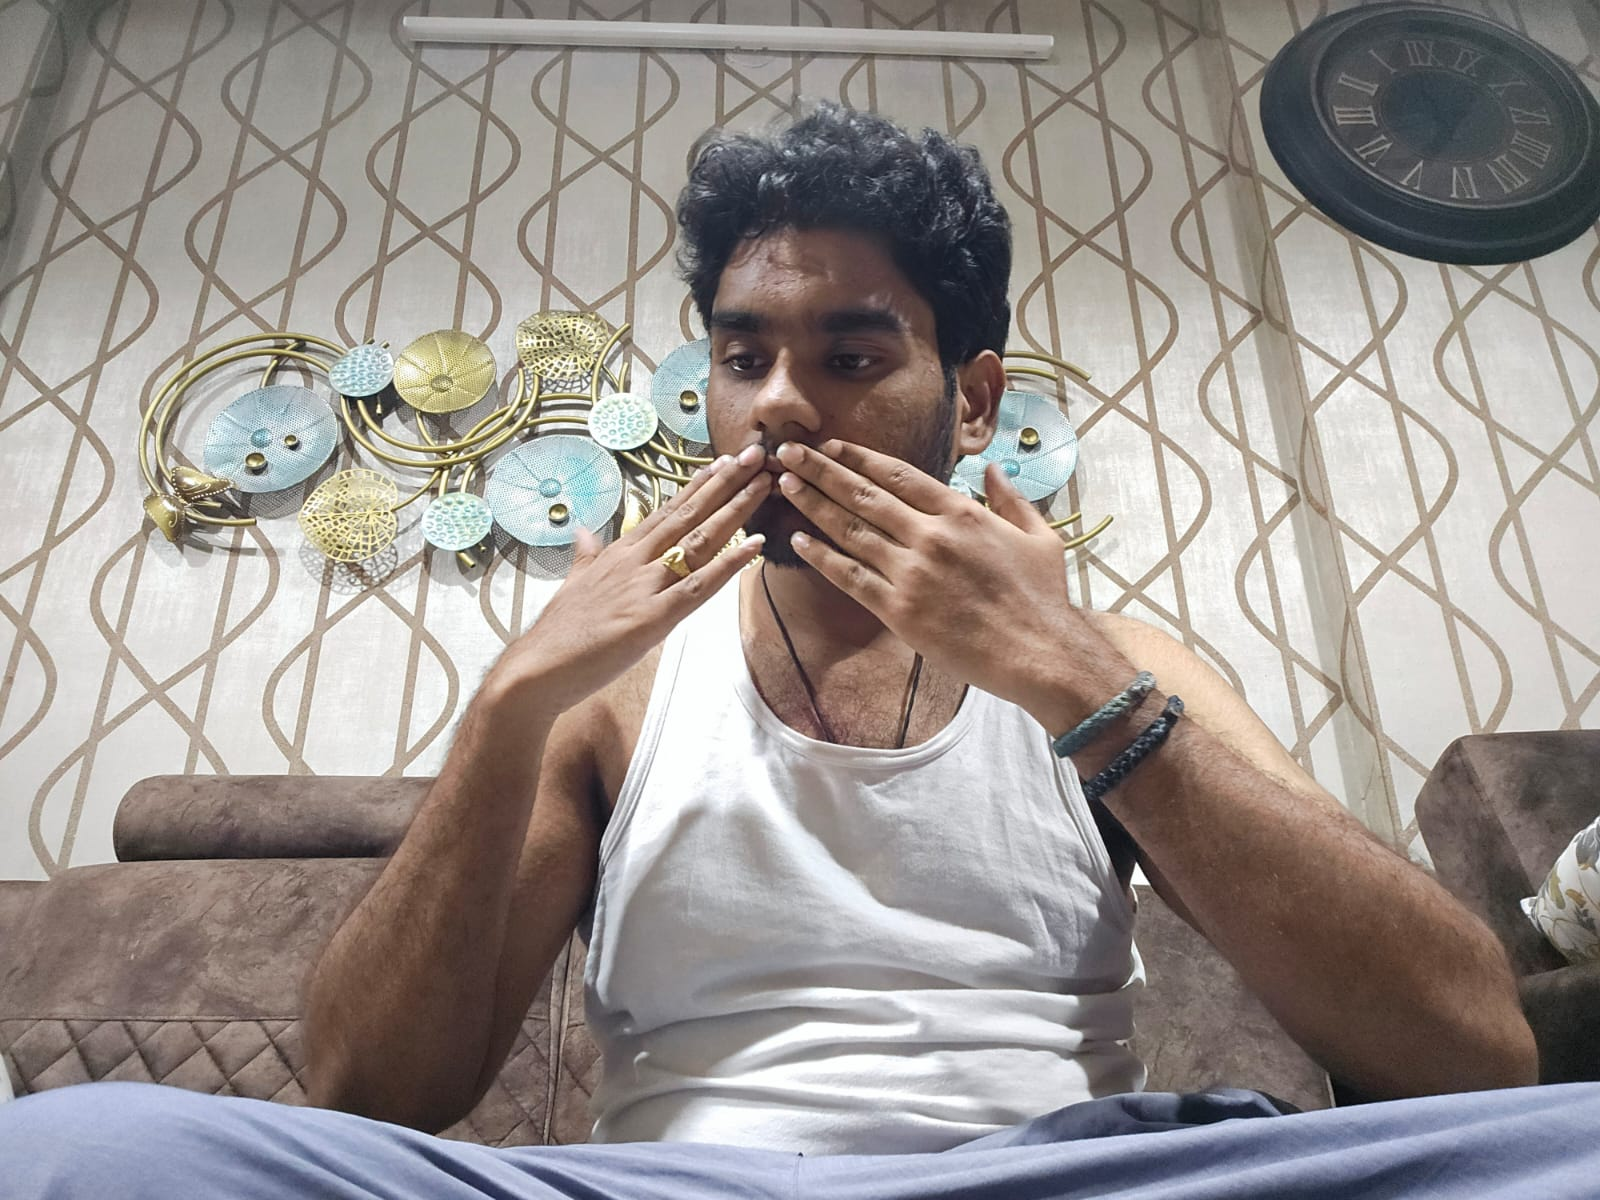thank you: (483, 444, 1105, 702)
